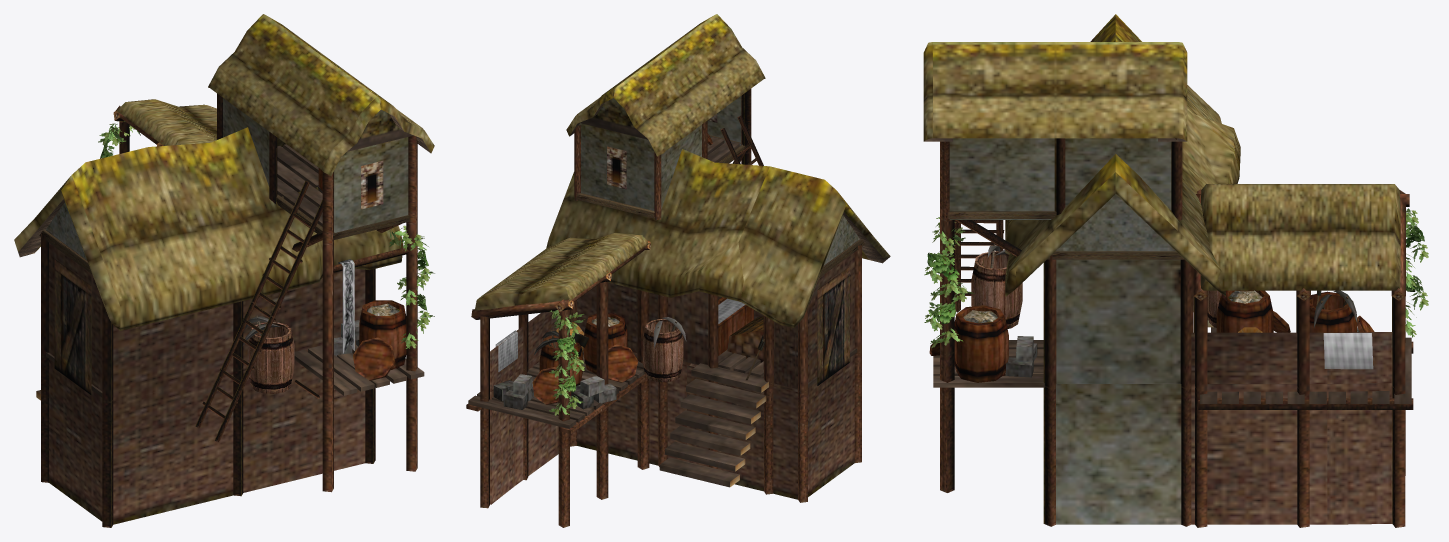
File: gaul_storehouse.glb
The picture shows the model from 3 angles, left to right: view 1: azimuth 30°, elevation 25°; view 2: azimuth 150°, elevation 25°; view 3: azimuth 270°, elevation 25°; orthographic projection. The views are drawn at different scales.
Parts seen in each view (by area): view 1: gaul_storehouse_part0, gaul_storehouse_part3, gaul_storehouse_part6; view 2: gaul_storehouse_part0, gaul_storehouse_part1, gaul_storehouse_part6; view 3: gaul_storehouse_part0, gaul_storehouse_part6, gaul_storehouse_part3, gaul_storehouse_part5.
Part boxes in pixels (bbox=[...]): gaul_storehouse_part0: bbox=[14, 14, 434, 527]; gaul_storehouse_part3: bbox=[247, 322, 294, 393]; gaul_storehouse_part6: bbox=[98, 121, 434, 348]; gaul_storehouse_part0: bbox=[466, 14, 890, 527]; gaul_storehouse_part1: bbox=[642, 319, 683, 382]; gaul_storehouse_part6: bbox=[549, 310, 585, 415]; gaul_storehouse_part0: bbox=[923, 14, 1413, 527]; gaul_storehouse_part6: bbox=[924, 208, 1428, 348]; gaul_storehouse_part3: bbox=[971, 251, 1022, 328]; gaul_storehouse_part5: bbox=[963, 290, 1262, 323].
Bounding box in the file's own units: 2.49 × 3.33 × 3.4.
Materials: 4 (4 with a texture image).
